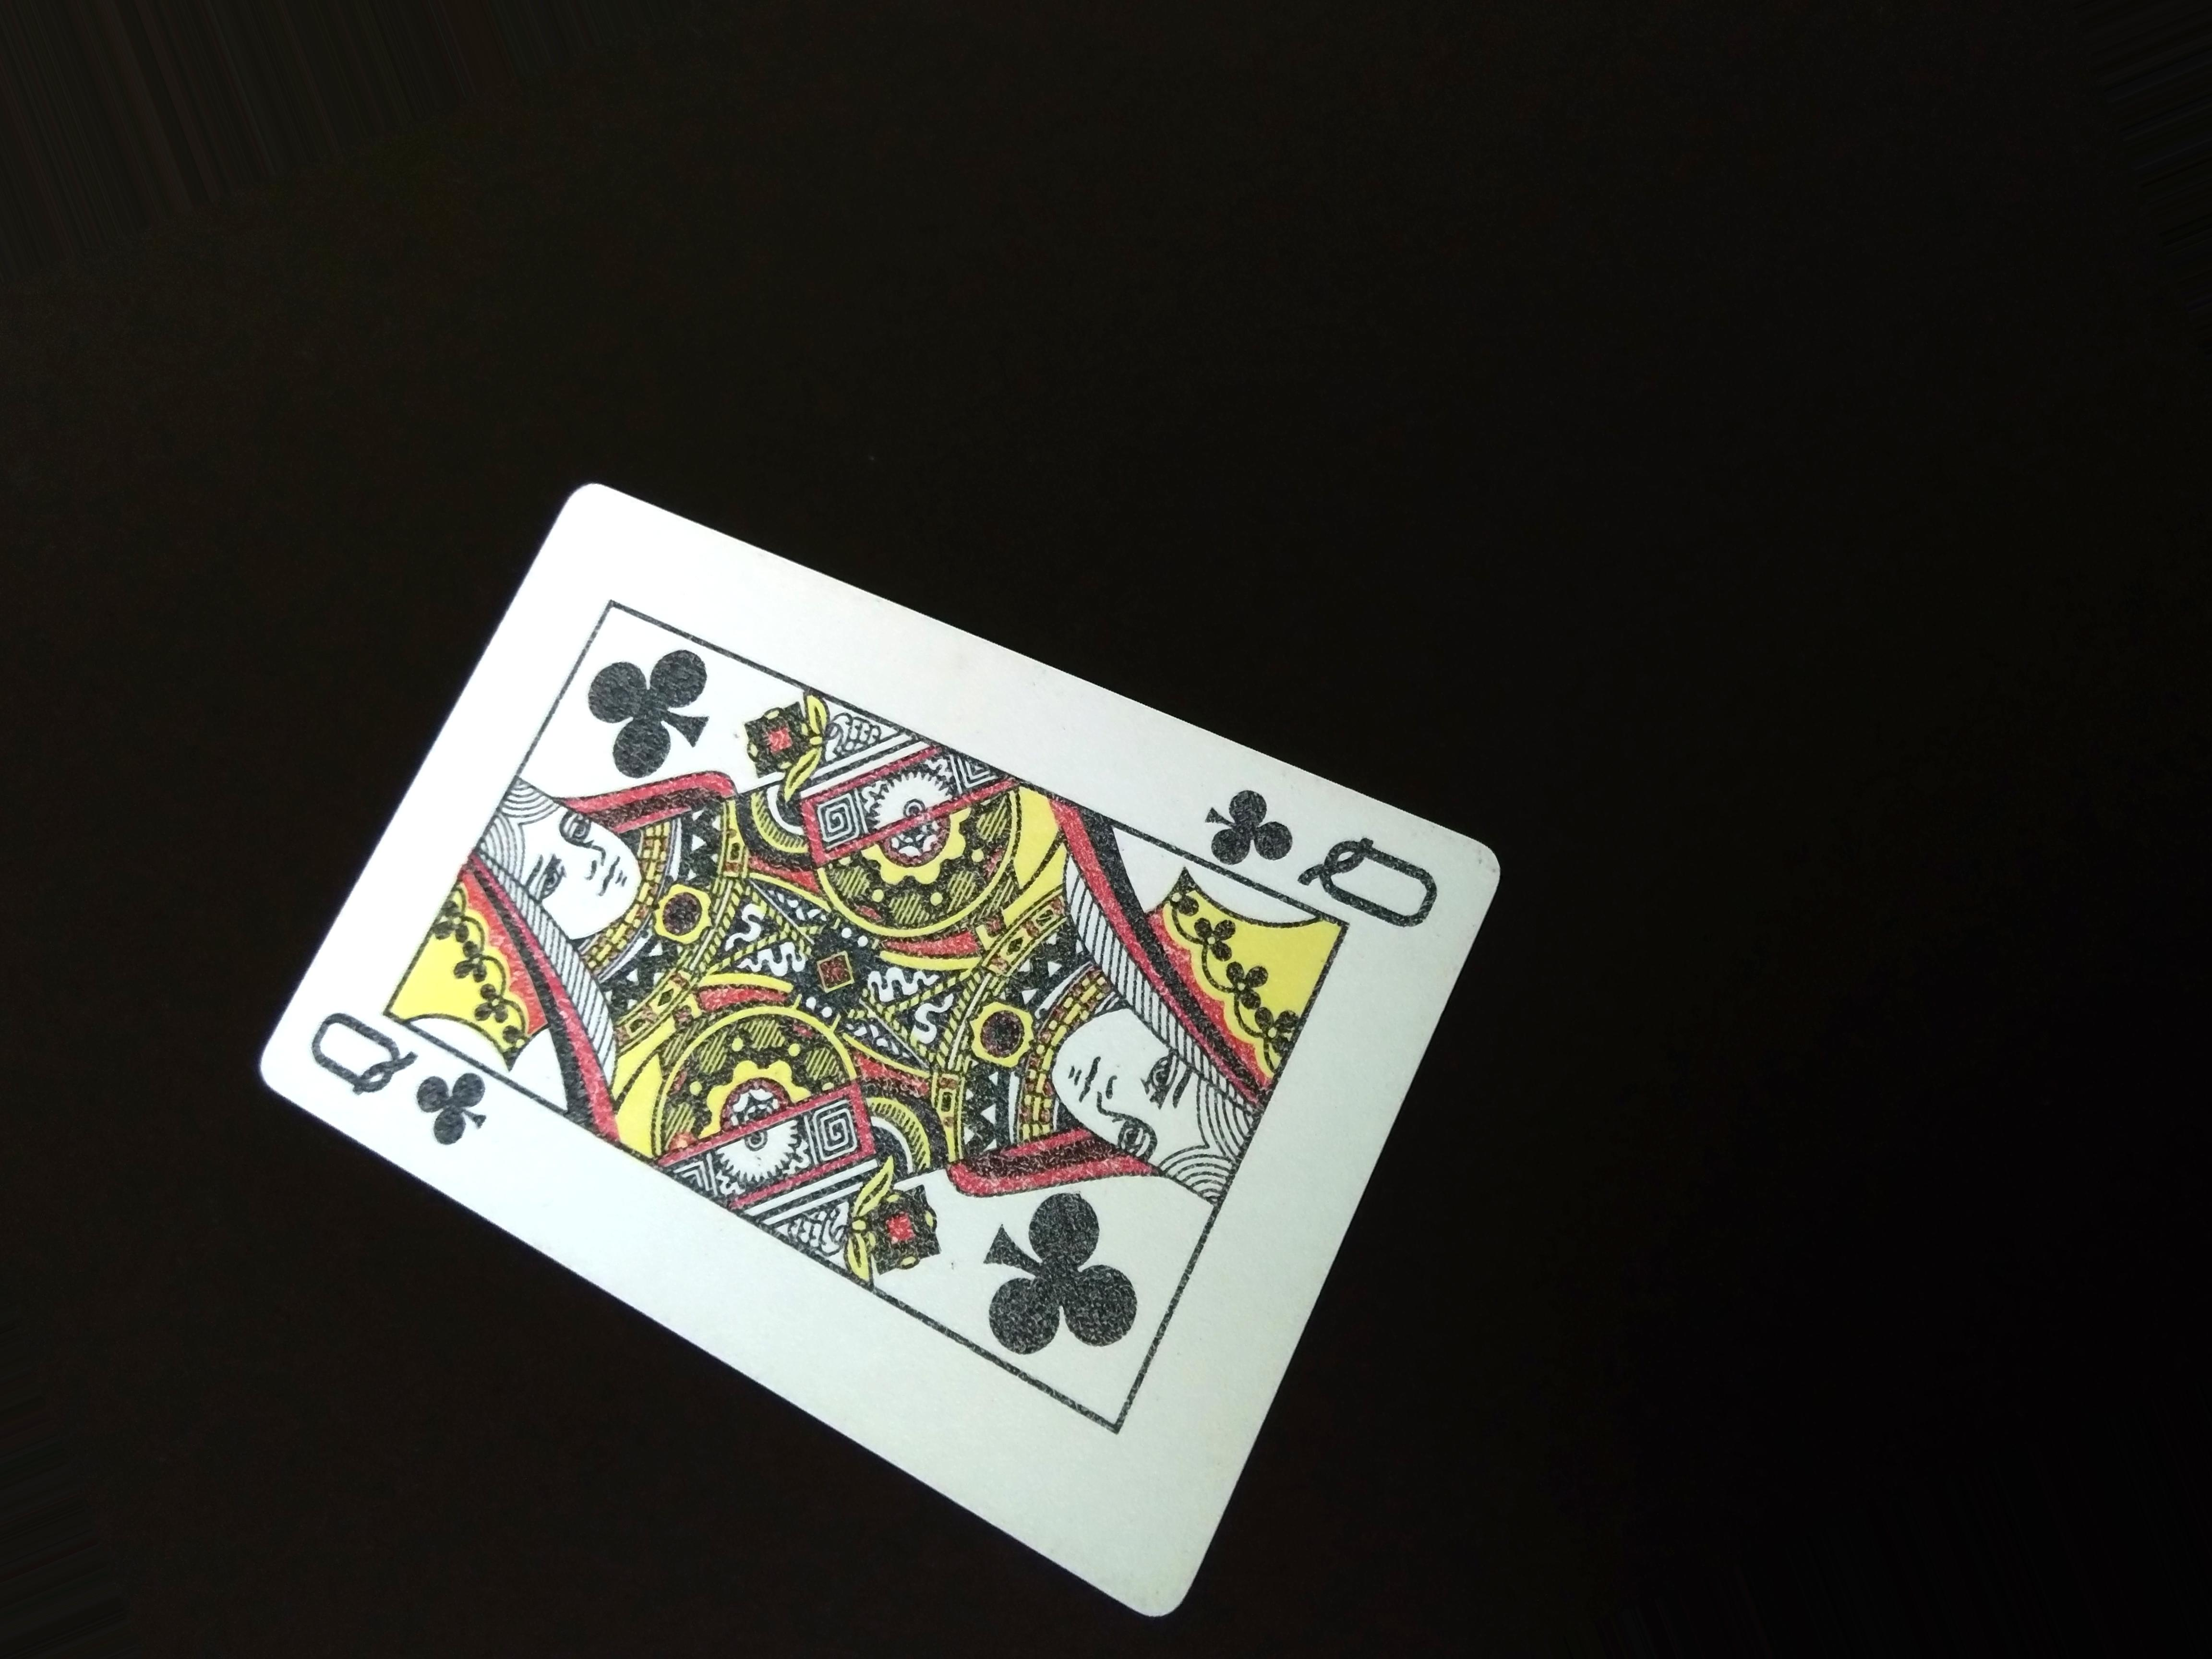QC: (1183, 765, 1467, 941)
